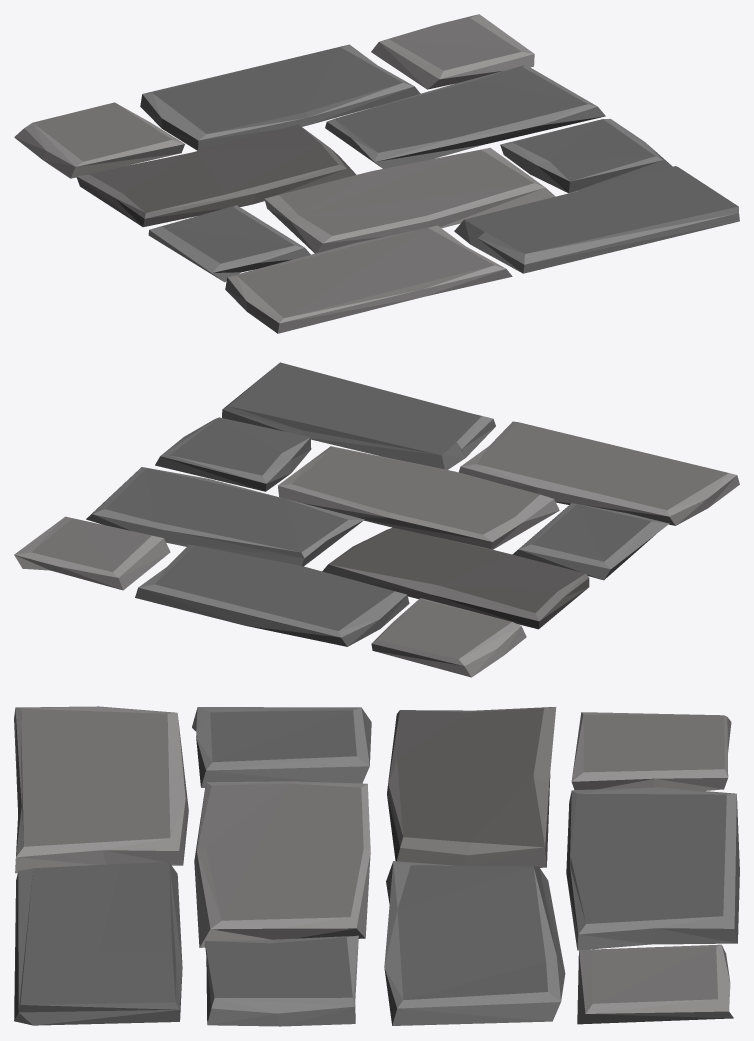
The model's file is StoneSlabSmall_02.glb.
The picture shows the model from 3 angles, top to bottom: view 1: azimuth 30°, elevation 25°; view 2: azimuth 150°, elevation 25°; view 3: azimuth 270°, elevation 25°; orthographic projection. The views are drawn at different scales.
Visible parts, largest first — view 1: StoneSlabSmall_02; view 2: StoneSlabSmall_02; view 3: StoneSlabSmall_02.
Boxes of the visible parts, <box> form: StoneSlabSmall_02: <box>14,14,739,333</box>; StoneSlabSmall_02: <box>14,362,739,677</box>; StoneSlabSmall_02: <box>14,706,739,1026</box>.
Size of what is drawn, in the model's own units: 0.9865 by 0.0278 by 0.9849.
Materials: 1 (1 with a texture image).
